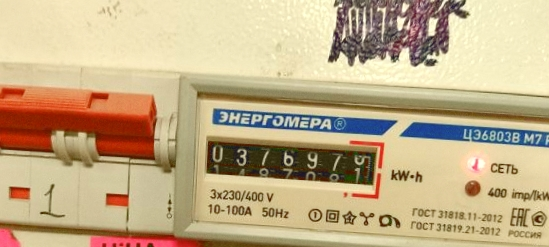0: (210, 142, 224, 163)
1: (351, 165, 363, 183)
3: (234, 145, 248, 166)
6: (281, 145, 295, 167)
7: (329, 149, 342, 172), (257, 145, 271, 166)
9: (305, 148, 318, 170)
screen: (196, 126, 389, 200)
